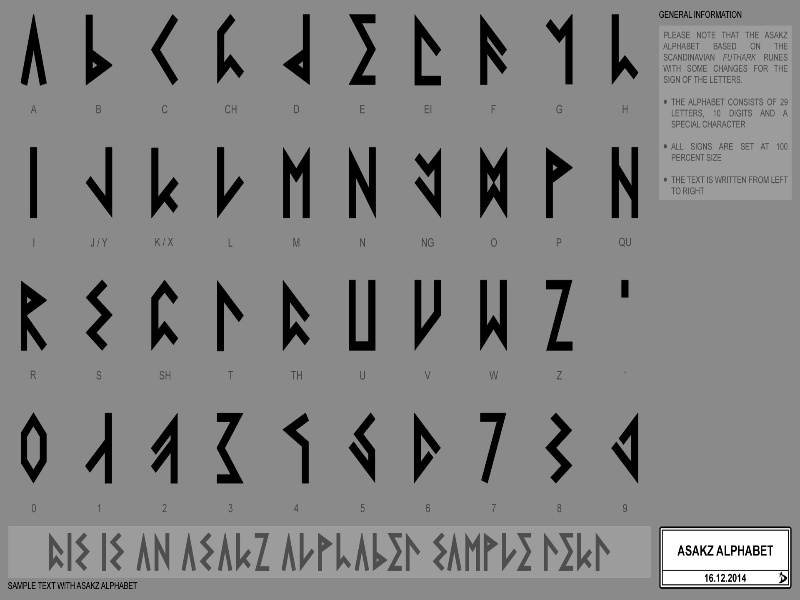letter: (530, 271, 587, 358), (600, 141, 659, 217), (338, 275, 383, 353), (478, 272, 511, 353), (613, 98, 645, 125), (22, 97, 54, 122), (283, 98, 312, 122), (79, 97, 115, 114), (479, 99, 504, 120), (346, 101, 373, 120), (550, 100, 575, 120), (24, 233, 50, 252), (218, 235, 245, 253), (470, 367, 514, 378), (156, 99, 178, 119), (25, 362, 41, 388), (89, 367, 113, 384), (408, 367, 444, 378), (286, 236, 314, 250), (148, 230, 164, 251), (350, 235, 370, 250), (349, 373, 372, 386), (86, 234, 100, 253), (550, 238, 573, 249), (547, 372, 571, 382), (485, 234, 500, 249), (222, 369, 239, 382), (103, 233, 115, 250), (164, 236, 181, 248)
